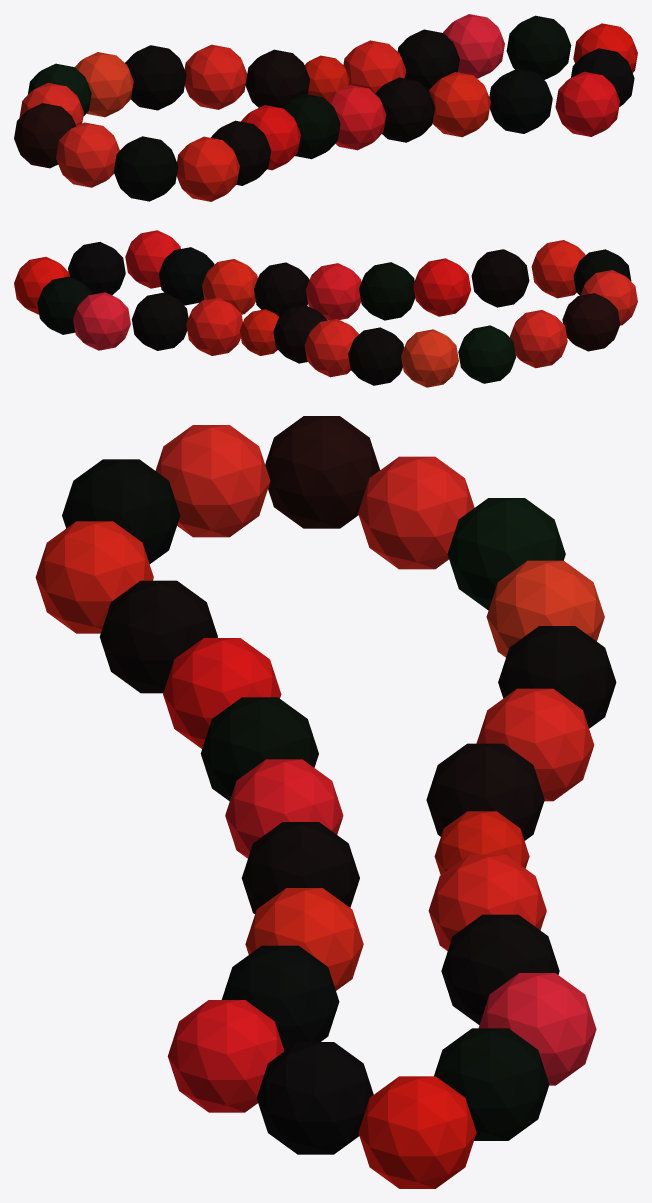
File: Bead$7.fbx
3 views of the same model, one above another, from view 1: azimuth 30°, elevation 25°; view 2: azimuth 150°, elevation 25°; view 3: azimuth 270°, elevation 25° (orthographic). The views are drawn at different scales.
Parts seen in each view (by area): view 1: Icosphere.024; view 2: Icosphere.024; view 3: Icosphere.024.
Boxes of the visible parts, x1,y1,x2,y2 form: Icosphere.024: (14, 14, 637, 201); Icosphere.024: (14, 230, 637, 387); Icosphere.024: (35, 416, 616, 1188).
Size of the model in its own units: 1388 by 297 by 609.
